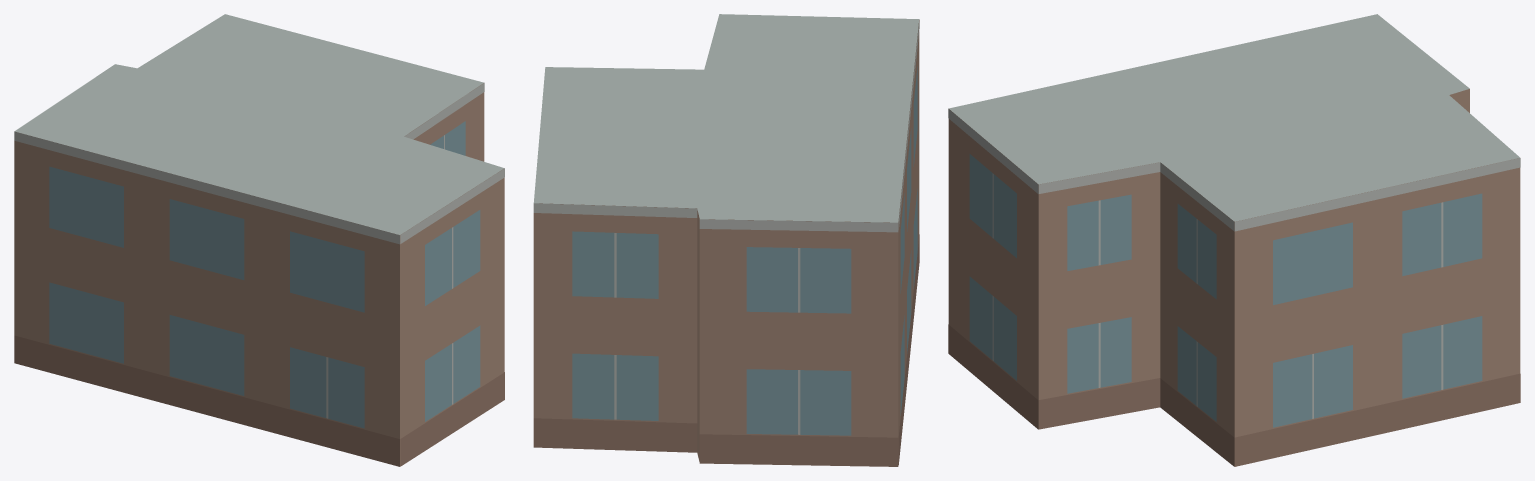
The model's file is survey-upis-32688814.glb.
3 renders of one model, left to right at view 1: azimuth 30°, elevation 25°; view 2: azimuth 150°, elevation 25°; view 3: azimuth 270°, elevation 25°, orthographic. The views are drawn at different scales.
Parts seen in each view (by area): view 1: survey-upis-32688814.tmp; view 2: survey-upis-32688814.tmp; view 3: survey-upis-32688814.tmp.
Boxes of the visible parts, left/top/right/bottom form: survey-upis-32688814.tmp: left=14, top=14, right=504, bottom=466; survey-upis-32688814.tmp: left=533, top=14, right=919, bottom=466; survey-upis-32688814.tmp: left=948, top=14, right=1520, bottom=466.
Size of the model in its own units: 11.1 by 6.1 by 12.91.
